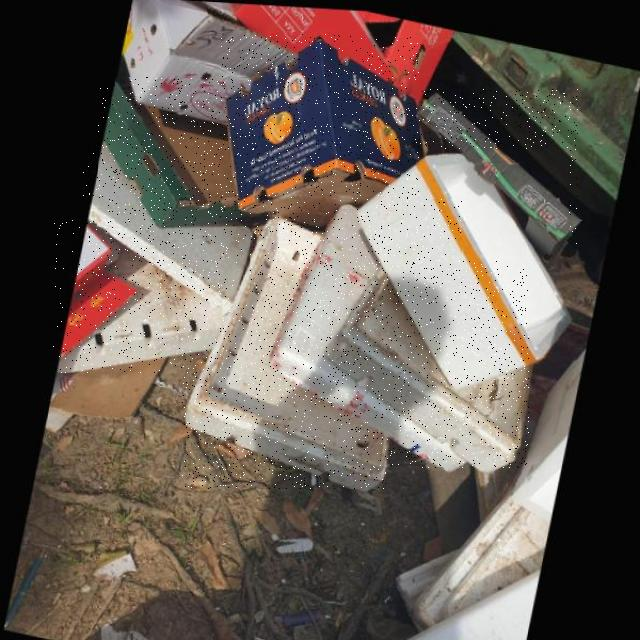paper: (222, 34, 419, 223), (411, 88, 578, 258), (99, 77, 257, 226)
styrofoam: (182, 215, 387, 488), (268, 199, 462, 467), (352, 149, 569, 386), (322, 261, 529, 467), (83, 139, 250, 312), (54, 220, 223, 373)
